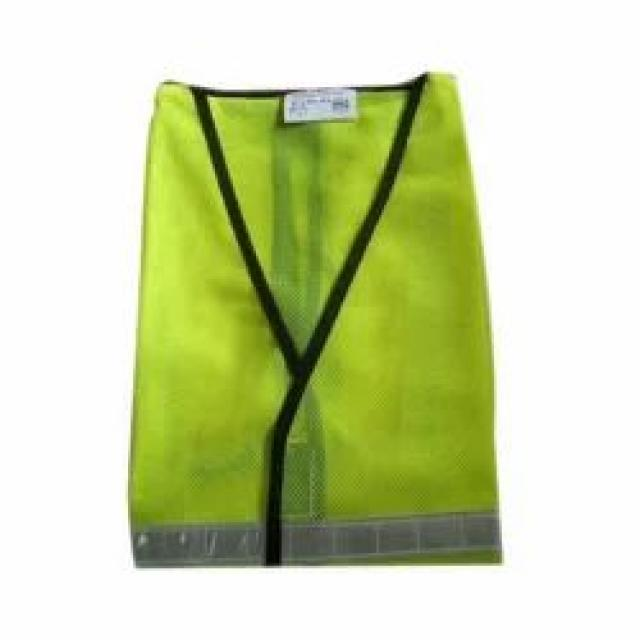Reflective-Jacket: (38, 51, 576, 612)
